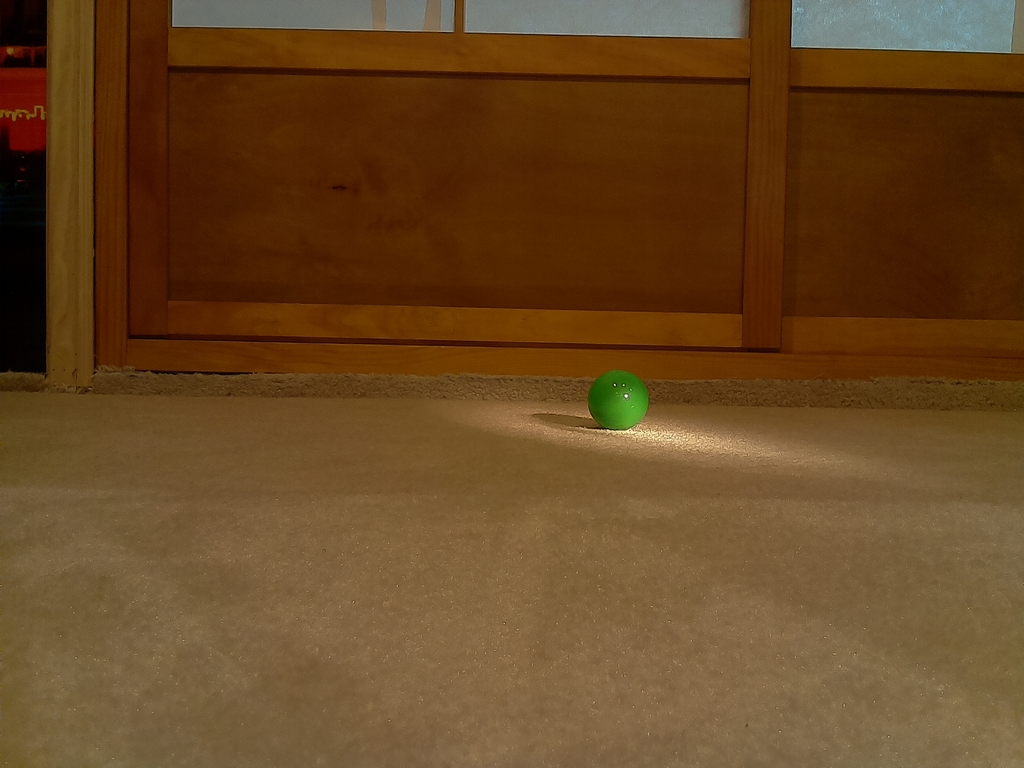ball: (591, 372, 648, 431)
